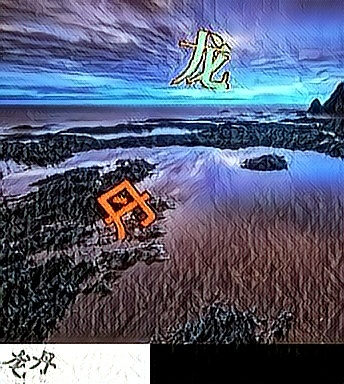B5A4: (95, 176, 157, 240)
C1FA: (169, 27, 231, 91)
